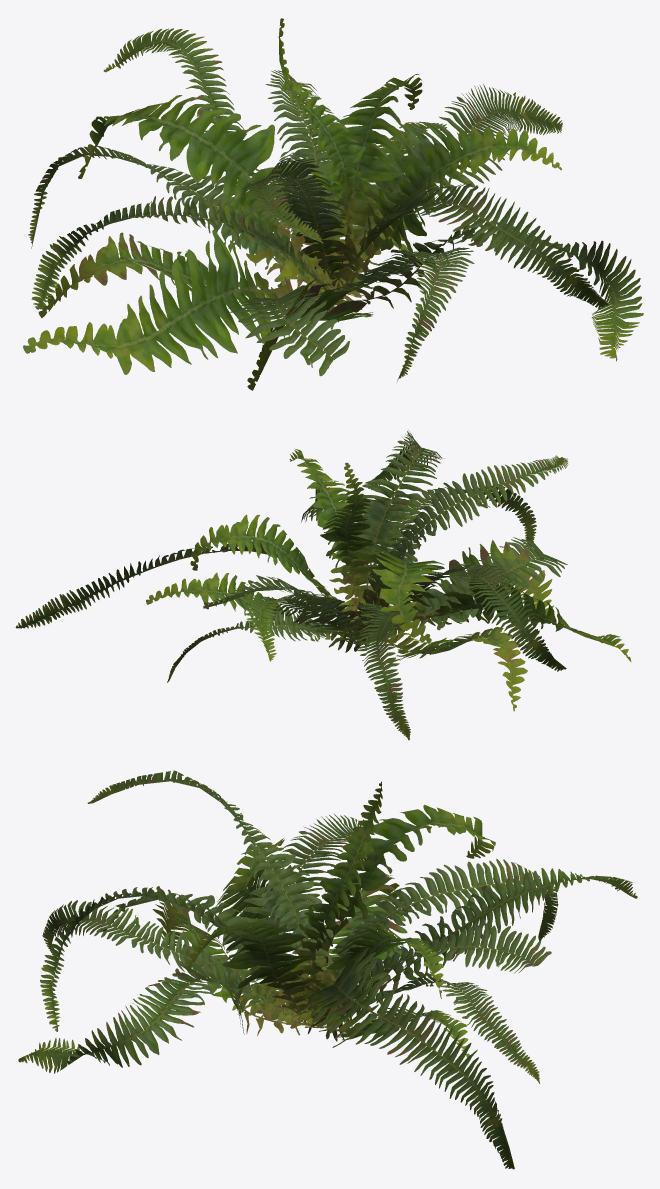
File: fern_02_c.glb
The picture shows the model from 3 angles, top to bottom: view 1: azimuth 30°, elevation 25°; view 2: azimuth 150°, elevation 25°; view 3: azimuth 270°, elevation 25°; orthographic projection. The views are drawn at different scales.
Parts seen in each view (by area): view 1: fern_02_c__lod0; view 2: fern_02_c__lod0; view 3: fern_02_c__lod0.
Part boxes in pixels (x1,y1,x2,y2): fern_02_c__lod0: [23, 18, 643, 390]; fern_02_c__lod0: [15, 430, 631, 740]; fern_02_c__lod0: [18, 770, 637, 1169].
Size of the model in its own units: 0.8743 by 0.349 by 0.7652.
1 material, 1 textured.
